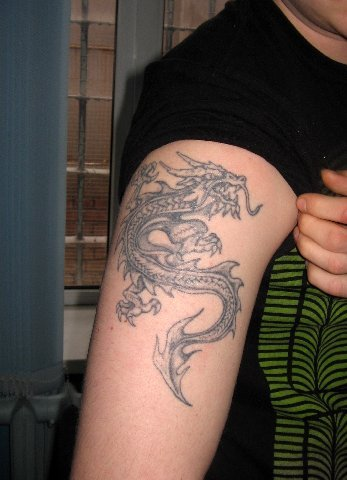tatu6_drakon: (97, 129, 291, 413)
